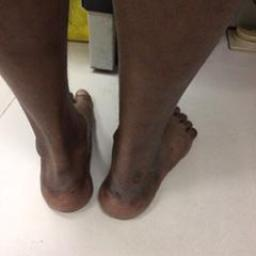Back View -Both Feet-: (5, 85, 207, 225)
